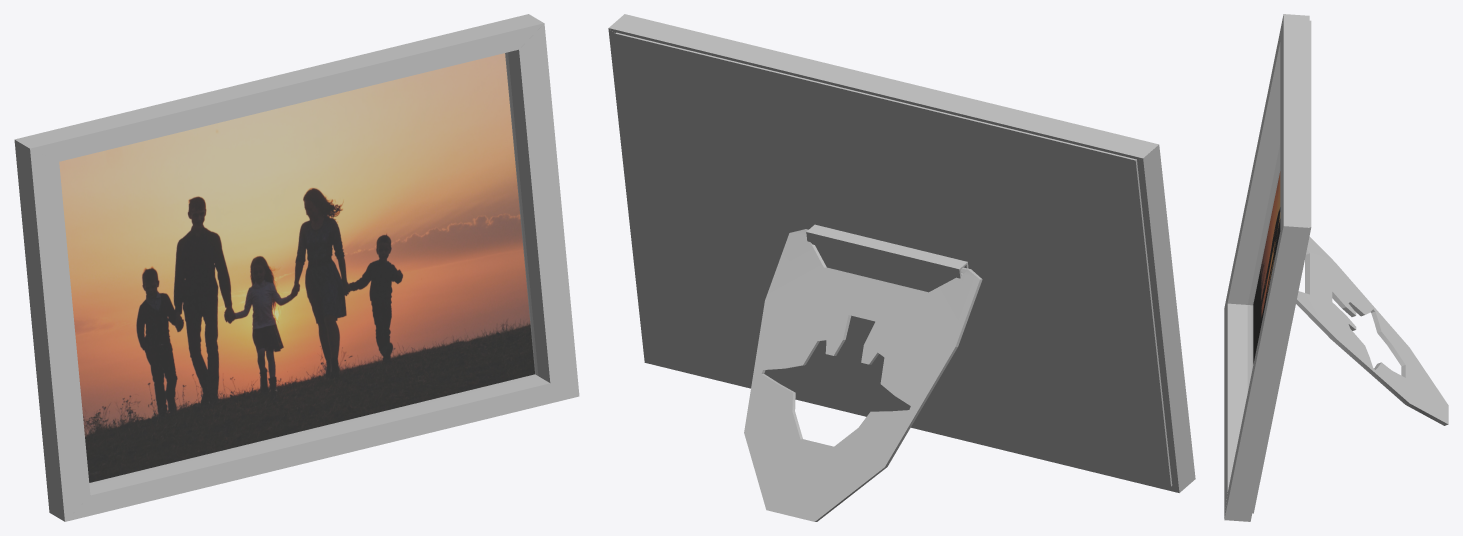
File: Frame.fbx
The picture shows the model from 3 angles, left to right: view 1: azimuth 30°, elevation 25°; view 2: azimuth 150°, elevation 25°; view 3: azimuth 270°, elevation 25°; orthographic projection. The views are drawn at different scales.
Visible parts, largest first — view 1: album; view 2: album; view 3: album.
Part boxes in pixels (<box>): album: <box>14,14,579,521</box>; album: <box>608,14,1195,521</box>; album: <box>1224,14,1448,521</box>.
Bounding box in the file's own units: 9184 × 5980 × 4101.
